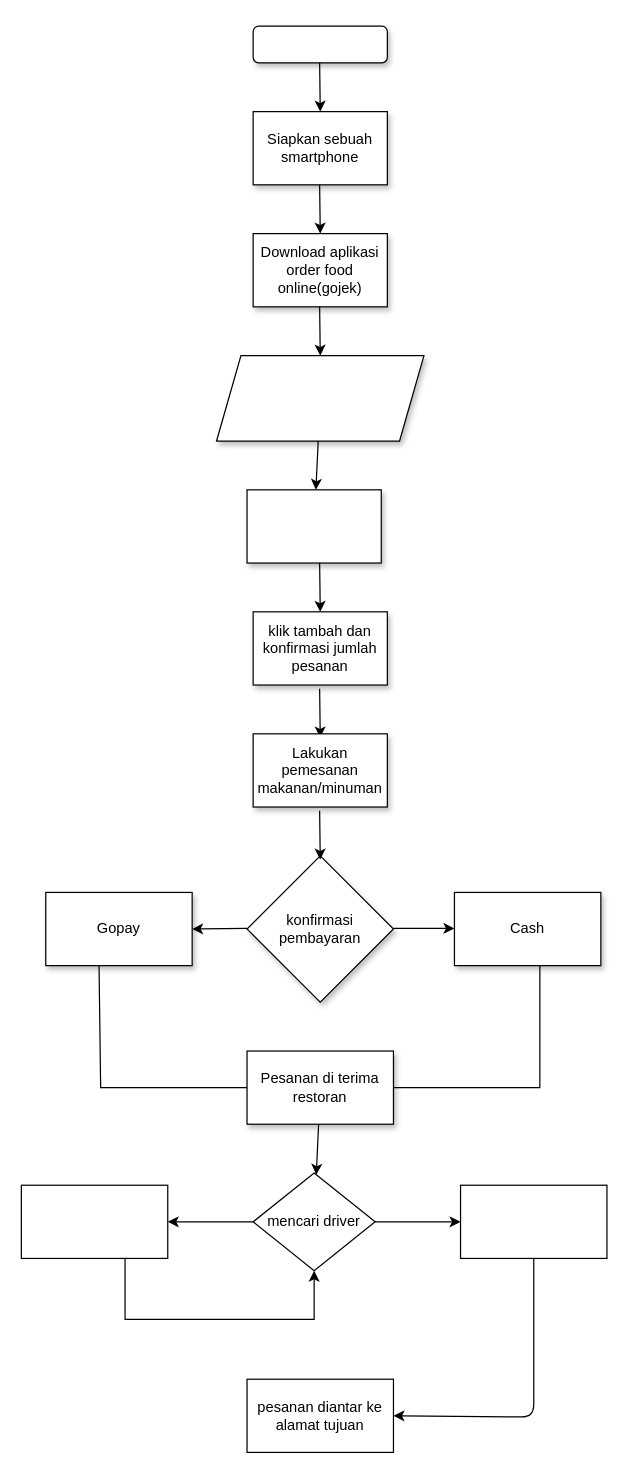
Some shapes in this 630 by 1474 pixel diagram are drawn without their labels. The shapes that lost their labels are listed below. From the top down, each one's centre as x and y in pixels, then its label:
point (321, 45): Start
point (320, 400): Masuk ke aplikasi, pilih daftar/masuk jika sudah mempunyai akun
point (315, 528): Cari makanan dan minuman yang akan di pesan
point (94, 1221): gagal menemukan driver
point (533, 1221): menemukan driver pesanan di terima
